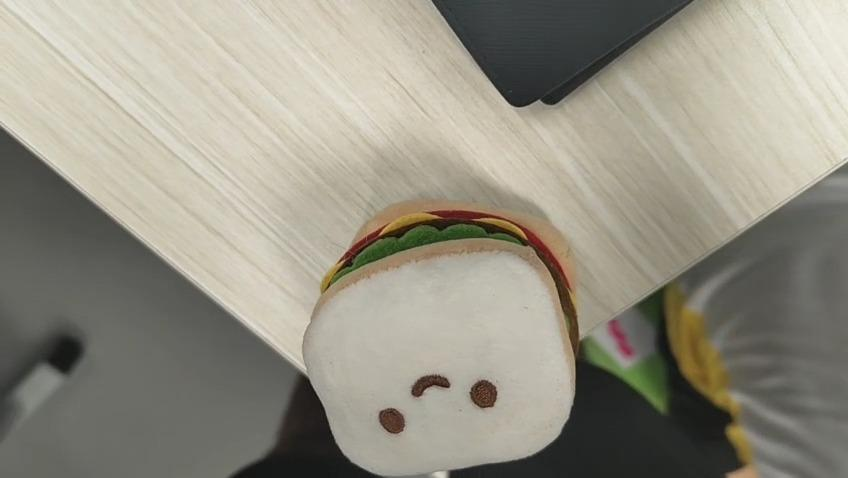objects: (301, 200, 575, 478)
